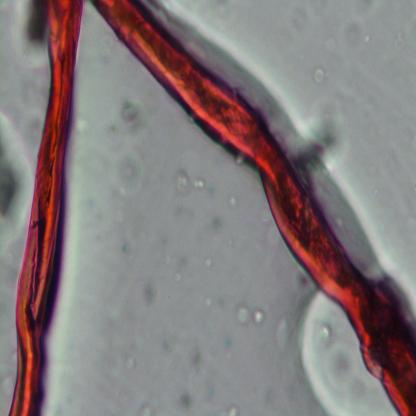Background material: (278, 284, 385, 416), (0, 114, 34, 232), (286, 110, 349, 171), (16, 0, 44, 58), (116, 95, 146, 139), (172, 170, 208, 194), (232, 301, 265, 325), (182, 346, 204, 373), (139, 280, 158, 305), (180, 382, 194, 412), (204, 214, 222, 234), (224, 399, 241, 416), (313, 66, 328, 84), (226, 191, 239, 211), (201, 254, 214, 270), (124, 356, 136, 372), (201, 291, 213, 307)
Cotton: (90, 0, 416, 415), (7, 0, 84, 415)
